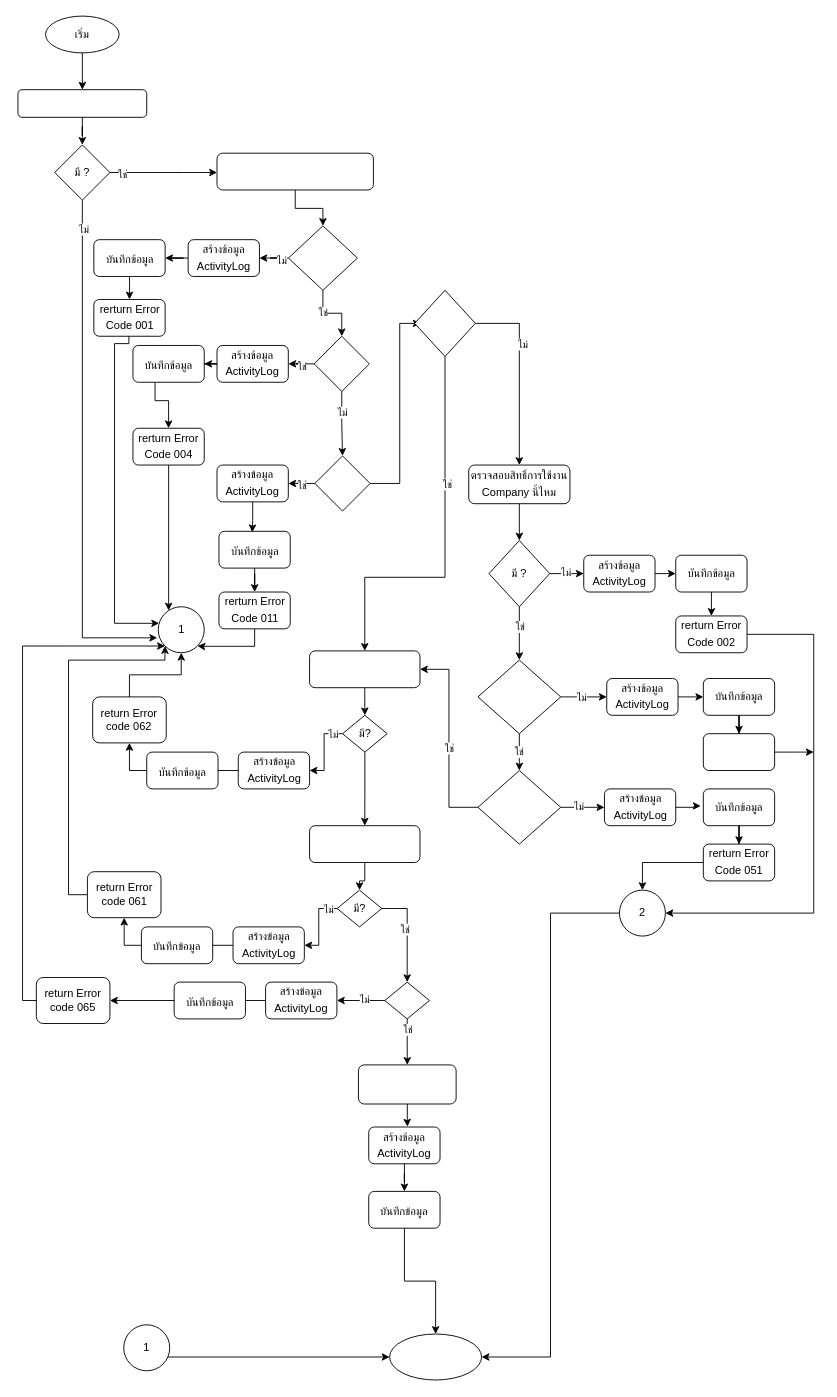
The diagram is 837 pixels wide and 1397 high, and some of its shapes have lost their labels. The centre of each missing label's shape, as x and y in pixels:
Active ?: (x=406, y=1000)
Company Active ?: (x=519, y=807)
Company มีในระบบ ไหม ?: (x=519, y=696)
Locked = 1 ?: (x=342, y=483)
rerturn Error Code 007: (x=738, y=751)
status = 1 ?: (x=341, y=363)
Super Admin ?: (x=444, y=322)
ดึงข้อมูลหัวข้อ ข้อมูลสำคัญทางการเงิน: (x=364, y=669)
ดึงข้อมูลหัวข้อหลัก ข้อมูลสำคัญทางการเงิน: (x=364, y=843)
ตรวจสอบ Account สถานะการใช้งาน: (x=294, y=171)
ตรวจสอบสิทธิ์การใช้งาน: (x=82, y=103)
มีใน ระบบ ?: (x=322, y=257)
สิ้นสุด: (x=435, y=1356)
แก้ไขข้อมูลหัวข้อ ข้อมูลสำคัญทางการเงิน: (x=407, y=1084)
